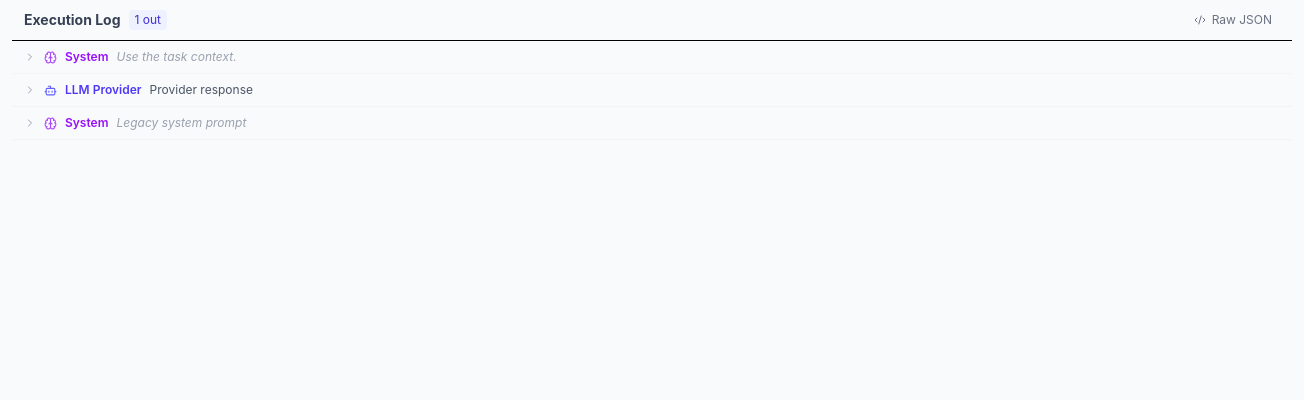
RunLogViewer request/response identities › renders expanded raw payloads in a readable, copyable JSON panel
Step 1. Click the button "System Use the task context." → (87, 56), box 12,41 -> 1292,73
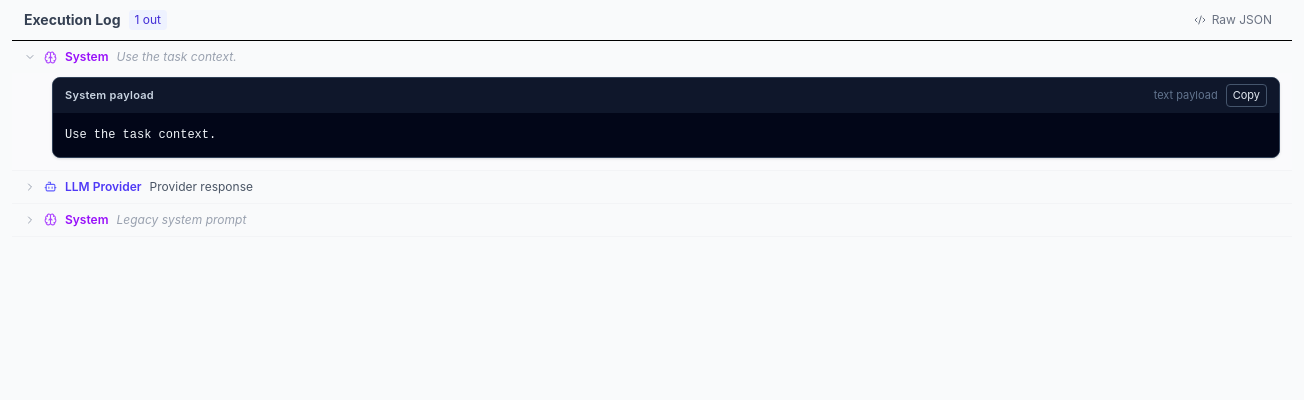
Now the element with test id "json-block" shows "System payload", box 65,88 -> 154,102
Step 2. Click the button "Raw JSON" → (1233, 20), box 1186,8 -> 1280,32
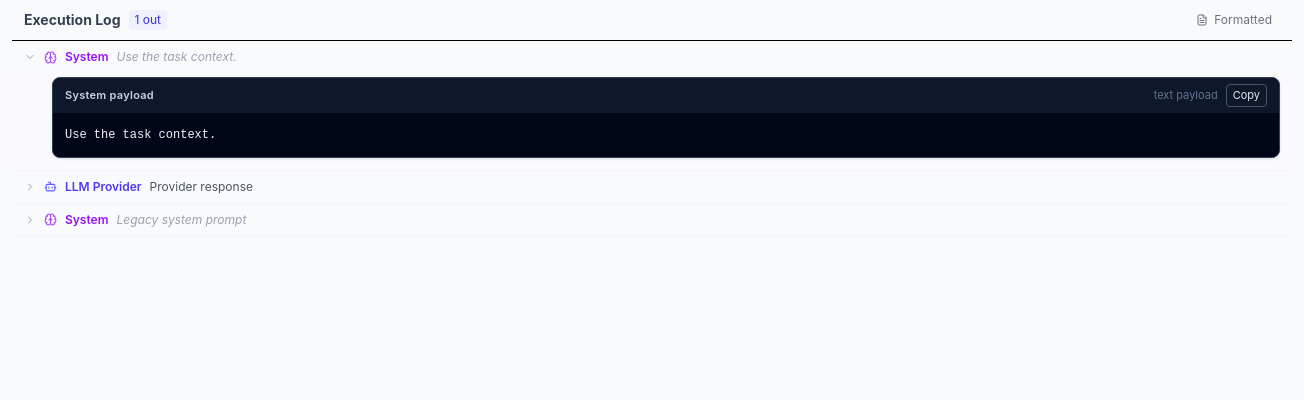
Step 3. Click the button "LLM Provider Provider response" → (103, 186), box 12,170 -> 1292,202
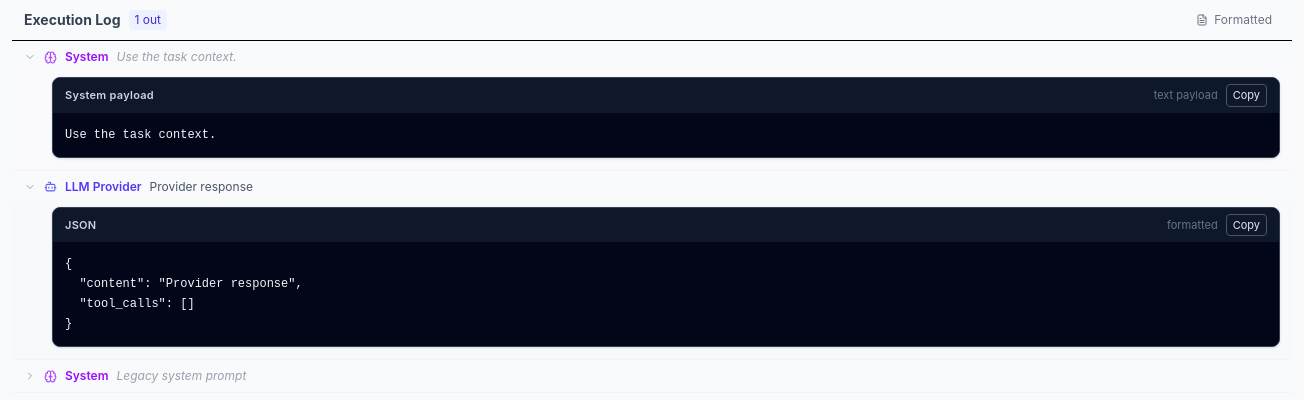
Now the button with aria-label "Copy JSON" is shown, box 1226,214 -> 1267,236
